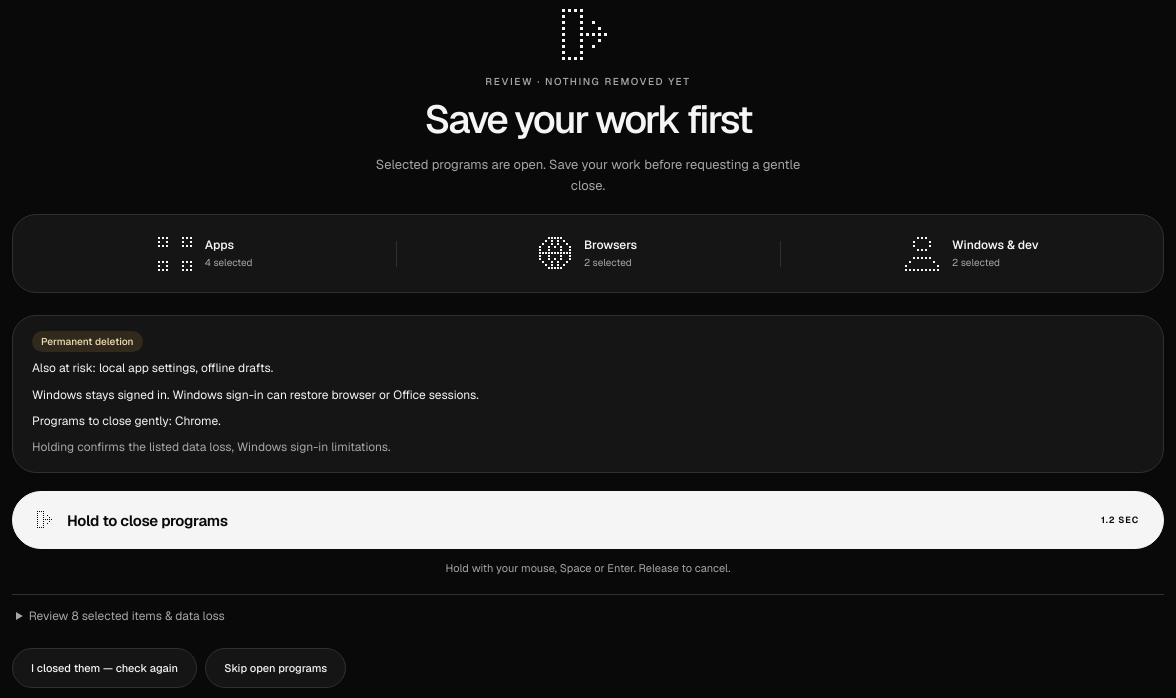
does not force close in Ask mode and can skip only affected items
Click the button "Skip open programs" at (276, 668), box 205,648 -> 346,688
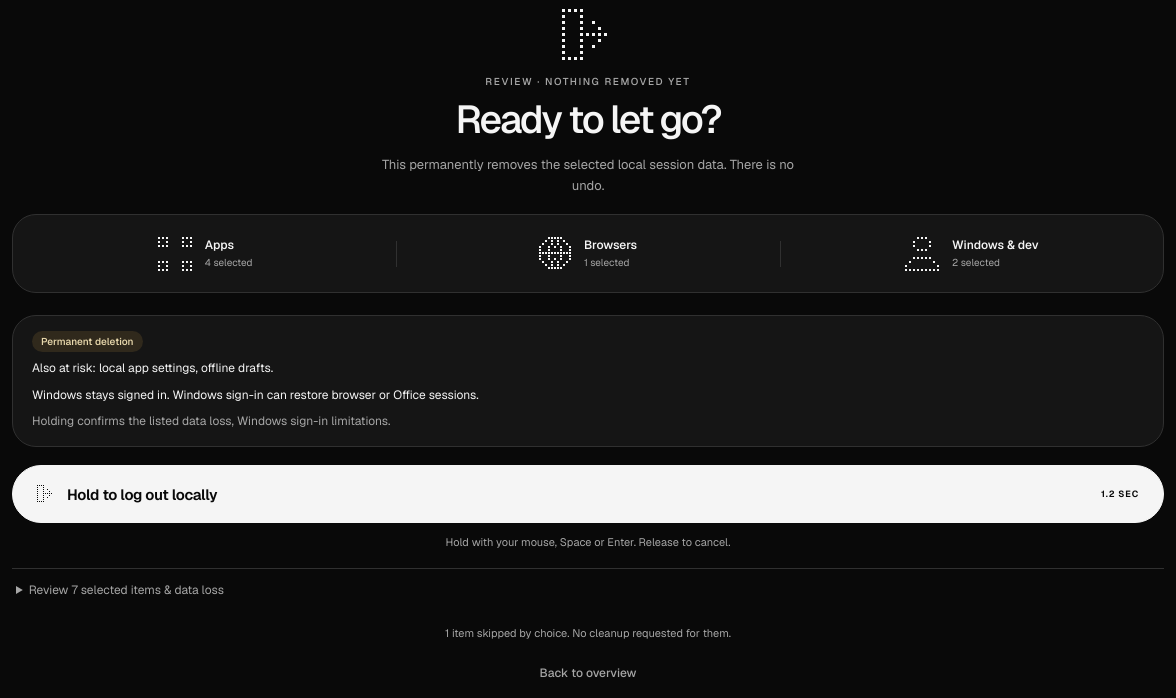
expect the button "Hold to log out locally 1.2 SEC" is shown: met, box 12,465 -> 1164,523
